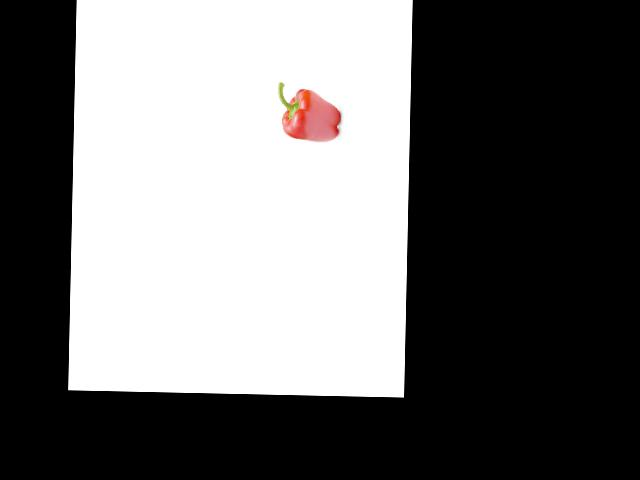bell_pepper: (273, 80, 346, 145)
